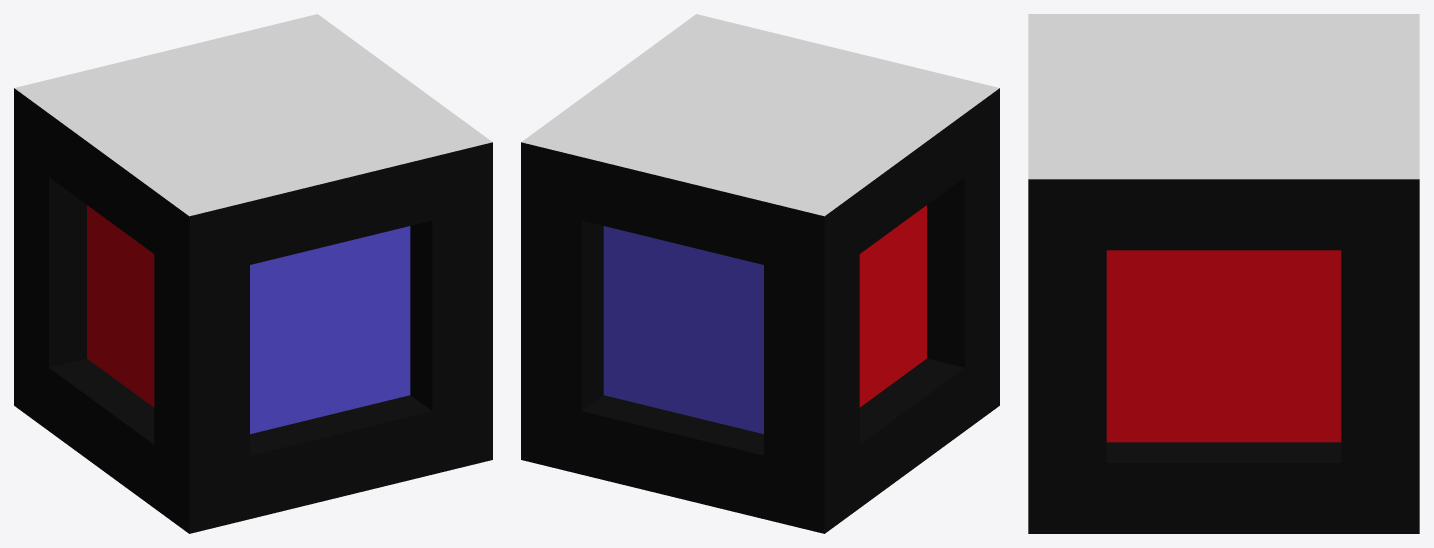
The model's file is CubeGOM#6.fbx.
3 renders of one model, left to right at view 1: azimuth 30°, elevation 25°; view 2: azimuth 150°, elevation 25°; view 3: azimuth 270°, elevation 25°, orthographic. The views are drawn at different scales.
Parts seen in each view (by area): view 1: Cube; view 2: Cube; view 3: Cube.
Boxes of the visible parts, box(x1,y1,x2,y2) form: Cube: box(14, 14, 492, 533); Cube: box(521, 14, 999, 533); Cube: box(1028, 14, 1419, 533).
Bounding box in the file's own units: 200 × 200 × 200.
